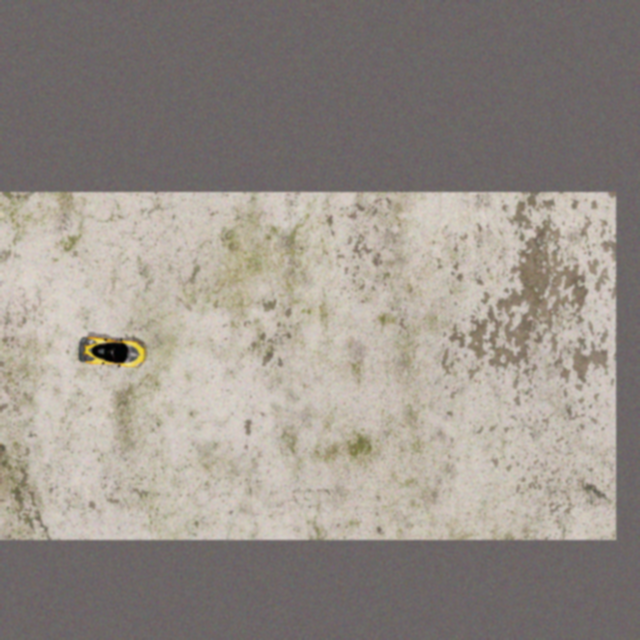car: (76, 334, 148, 370)
